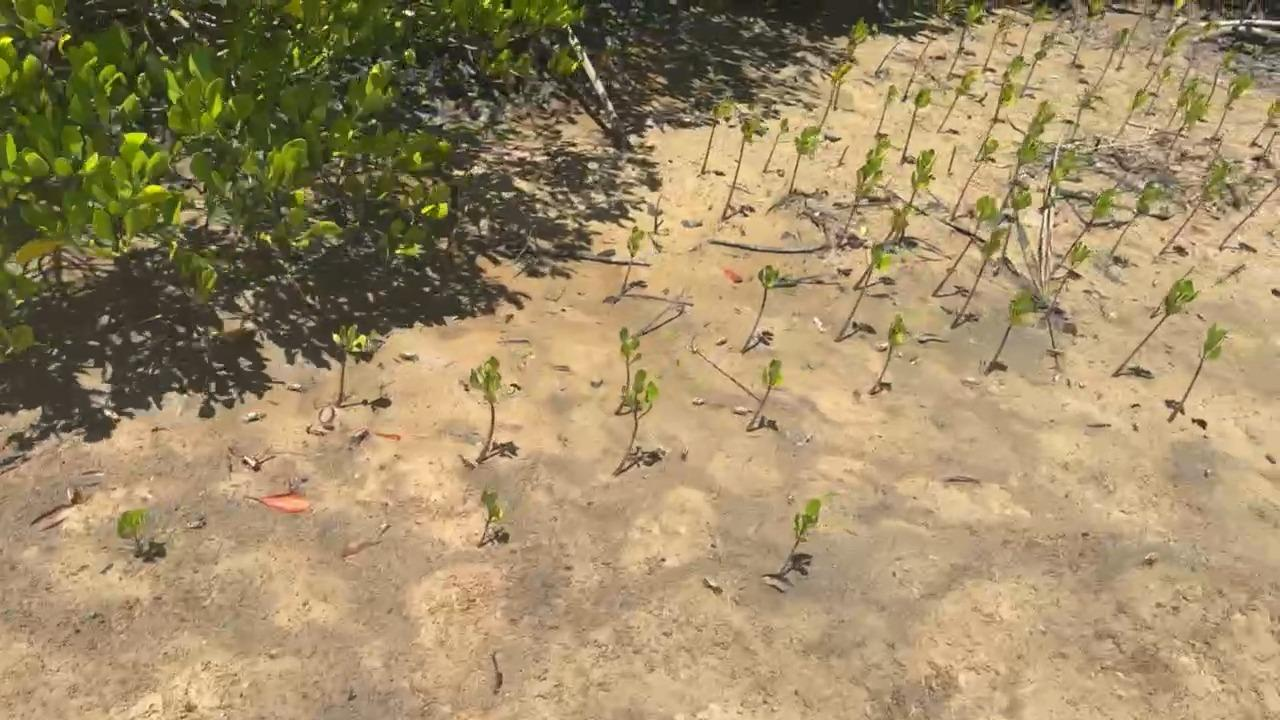Tree: (1111, 280, 1200, 377), (930, 196, 1000, 297), (1160, 165, 1236, 258), (951, 225, 1010, 329), (1168, 323, 1228, 421), (838, 243, 893, 341), (721, 115, 768, 222), (852, 207, 910, 290), (1037, 149, 1084, 249), (1220, 171, 1280, 248), (1059, 187, 1117, 262), (616, 371, 659, 471), (986, 293, 1038, 371), (951, 139, 999, 222), (1109, 183, 1162, 255), (469, 357, 504, 461), (1043, 243, 1091, 318), (743, 265, 782, 352), (832, 19, 869, 109), (780, 499, 822, 575), (974, 81, 1014, 160), (1143, 27, 1192, 90), (1000, 135, 1043, 203), (843, 154, 880, 233), (333, 325, 369, 404), (1167, 92, 1210, 156), (747, 360, 786, 430), (871, 315, 906, 392), (935, 70, 978, 132), (1144, 0, 1185, 65), (946, 6, 981, 79), (1019, 33, 1059, 96), (901, 89, 935, 163), (1181, 22, 1220, 86), (1214, 73, 1253, 137), (700, 97, 733, 172), (1116, 5, 1152, 72), (994, 55, 1029, 120), (615, 329, 641, 413), (820, 62, 853, 127), (1072, 0, 1105, 65), (790, 125, 822, 192), (1095, 27, 1130, 88), (1002, 190, 1031, 261), (981, 13, 1014, 73), (1112, 89, 1149, 139), (902, 40, 932, 101), (908, 148, 937, 208), (1205, 52, 1236, 106), (1166, 78, 1198, 130), (762, 117, 791, 171), (1019, 4, 1050, 54), (622, 226, 644, 294), (1250, 99, 1280, 147), (1024, 101, 1057, 144), (478, 489, 502, 548), (1069, 89, 1096, 138), (117, 510, 147, 551), (877, 85, 899, 135), (875, 41, 906, 75), (871, 135, 891, 181), (654, 193, 665, 234), (1263, 132, 1280, 158), (946, 145, 957, 174), (838, 145, 850, 166)
